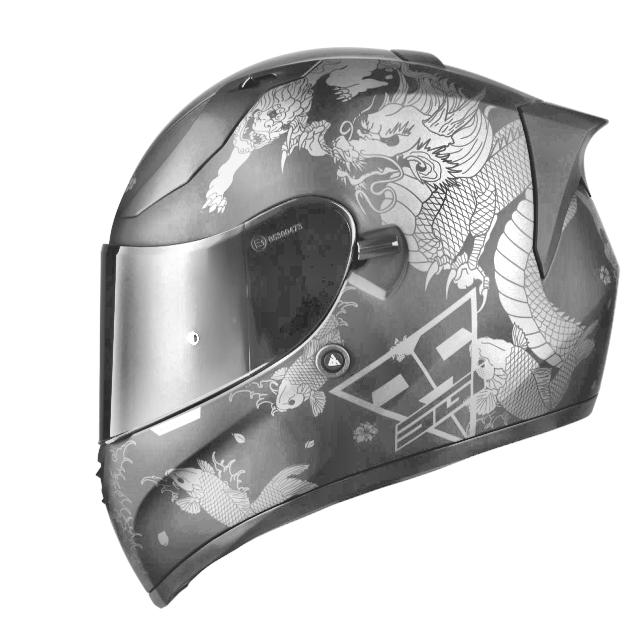Helmet: (74, 34, 626, 613)
